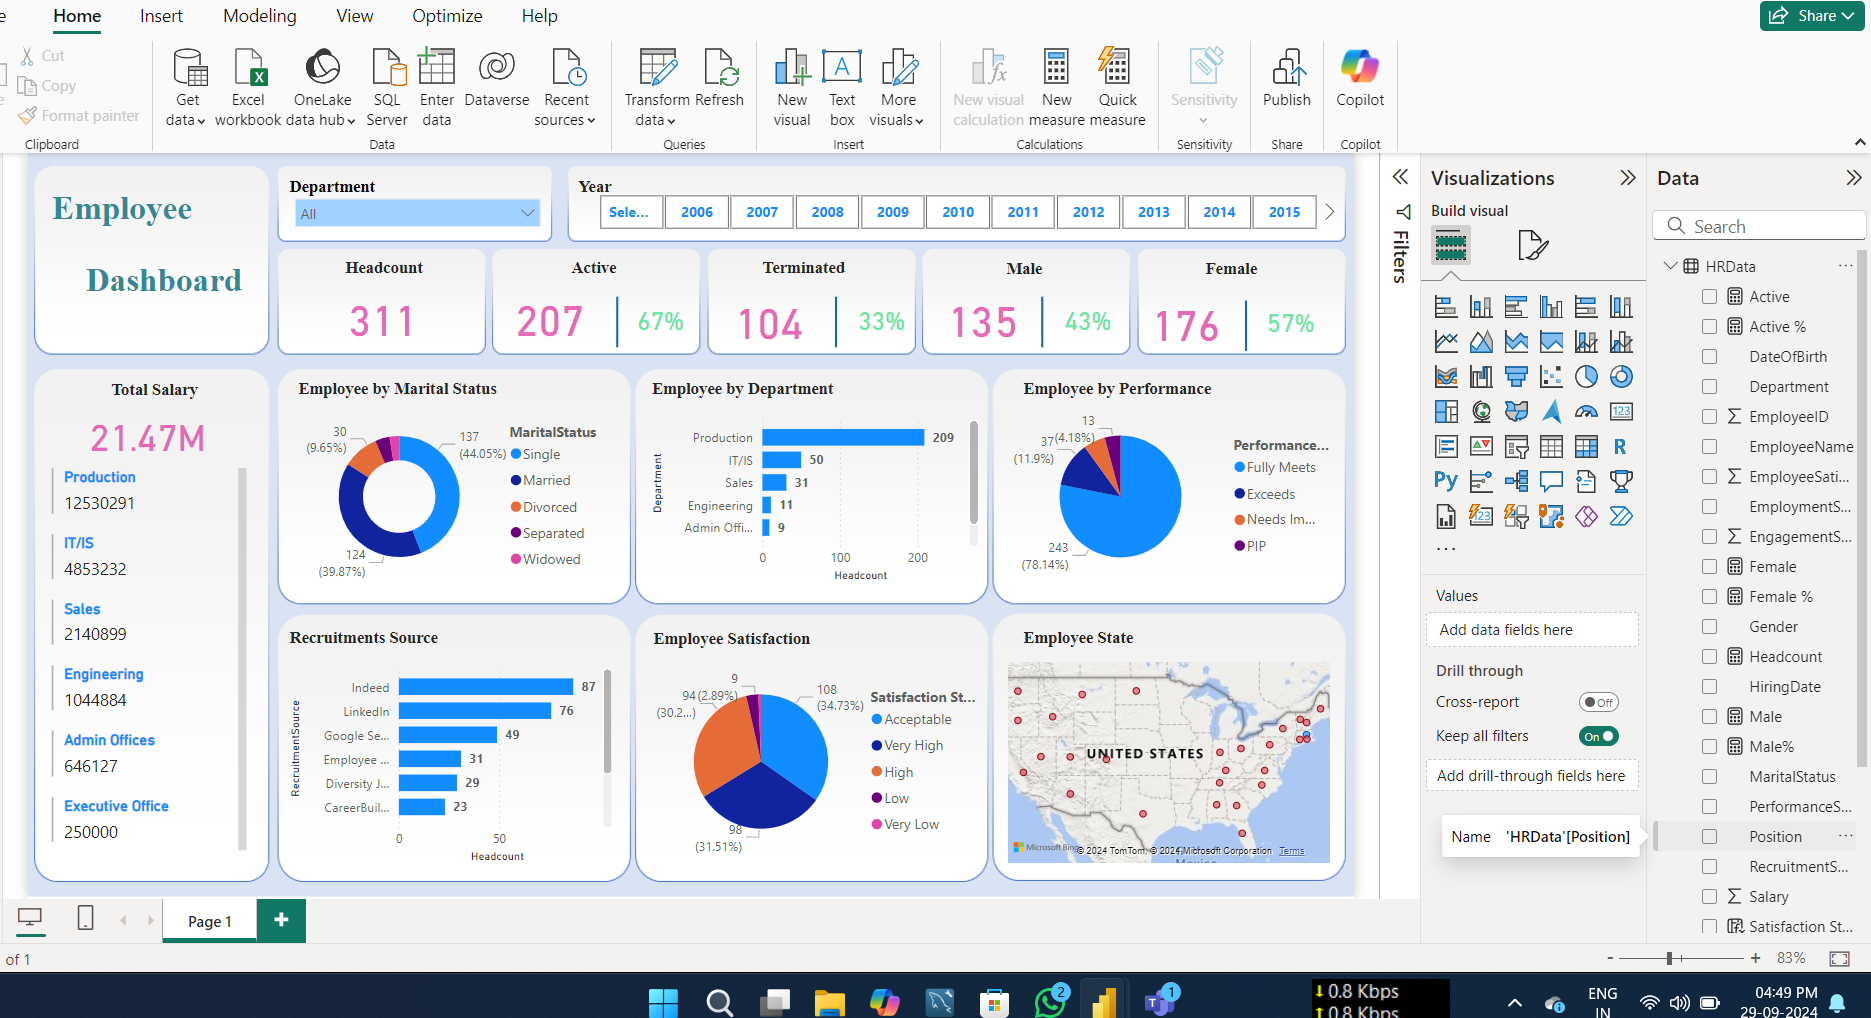

The dashboard page shown, as its layout file describes it:
{"tool":"powerbi","page":{"name":"Page 1","canvas":[1280,720],"ordinal":0},"visuals":[{"type":"textbox","box":[247.5,17.5,113.8,31.2],"z":0},{"type":"textbox","box":[526.2,17.5,56.2,31.2],"z":1000},{"type":"textbox","box":[247.5,96.2,192.5,28.8],"z":2000},{"type":"slicer","fields":{"Values":["HRData.Department"]},"box":[247.5,33.8,257.5,46.2],"z":3000},{"type":"slicer","fields":{"Values":["HRData.Year"]},"box":[526.2,33.8,741.2,46.2],"z":4000},{"type":"textbox","box":[658.8,96.2,180,31.2],"z":5000},{"type":"textbox","box":[452.5,96.2,187.5,31.2],"z":6000},{"type":"card","fields":{"Values":["HRData.Headcount"]},"box":[290,127.5,106.2,60],"z":7000},{"type":"card","fields":{"Values":["HRData.Active"]},"box":[452.5,127.5,102.5,60],"z":8000},{"type":"shape","box":[555,138.8,27.5,48.8],"z":9000},{"type":"shape","box":[766.2,138.8,27.5,48.8],"z":10000},{"type":"card","fields":{"Values":["HRData.Female"]},"box":[1072.5,138.8,90,48.8],"z":11000},{"type":"card","fields":{"Values":["HRData.Male"]},"box":[880,128.8,85,60],"z":12000},{"type":"card","fields":{"Values":["HRData.Terminated"]},"box":[670,133.8,91.2,55],"z":13000},{"type":"card","fields":{"Values":["HRData.Active %"]},"box":[580,133.8,60,55],"z":14000},{"type":"card","fields":{"Values":["HRData.Termin %"]},"box":[793.8,133.8,60,55],"z":15000},{"type":"card","fields":{"Values":["HRData.Male%"]},"box":[992.5,133.8,60,55],"z":16000},{"type":"card","fields":{"Values":["HRData.Female %"]},"box":[1188.8,136.2,60,55],"z":17000},{"type":"shape","box":[965,138.8,27.5,48.8],"z":18000},{"type":"shape","box":[1161.2,142.5,27.5,48.8],"z":19000},{"type":"textbox","box":[878.8,97.5,162.5,31.2],"z":20000},{"type":"textbox","box":[1088.8,97.5,146.2,31.2],"z":21000},{"type":"textbox","box":[955,453.8,293.8,31.2],"z":22000},{"type":"textbox","box":[598.8,455,300,31.2],"z":23000},{"type":"textbox","box":[247.5,453.8,321.2,31.2],"z":24000},{"type":"textbox","box":[955,213.8,307.5,31.2],"z":25000},{"type":"textbox","box":[597.5,213.8,287.5,31.2],"z":26000},{"type":"textbox","box":[256.2,213.8,278.8,31.2],"z":27000},{"type":"textbox","box":[27.5,215,188.8,31.2],"z":28000},{"type":"donutChart","fields":{"Category":["HRData.MaritalStatus"],"Y":["HRData.Headcount"]},"box":[247.5,245,321.2,173.8],"z":29000},{"type":"clusteredBarChart","fields":{"Category":["HRData.Department"],"Y":["HRData.Headcount"]},"box":[597.5,245,325,173.8],"z":30000},{"type":"pieChart","fields":{"Category":["HRData.PerformanceScore"],"Y":["HRData.Headcount"]},"box":[941.2,245,321.2,173.8],"z":31000},{"type":"clusteredBarChart","fields":{"Category":["HRData.RecruitmentSource"],"Y":["HRData.Headcount"]},"box":[247.5,485,321.2,205],"z":32000},{"type":"pieChart","fields":{"Category":["HRData.Satisfaction Status"],"Y":["HRData.Headcount"]},"box":[597.5,485,325,205],"z":33000},{"type":"map","fields":{"Category":["HRData.State"]},"box":[941.2,486.2,321.2,203.8],"z":34000},{"type":"card","fields":{"Values":["Sum(HRData.Salary)"]},"box":[27.5,245,176.2,53.8],"z":35000},{"type":"multiRowCard","fields":{"Values":["Sum(HRData.Salary)","HRData.Department"]},"box":[18.1,299.2,197.9,390.9],"z":36000},{"type":"textbox","box":[51.2,98.8,175,58.8],"z":37000},{"type":"textbox","box":[17.5,28.8,190,57.5],"z":38000}]}

Visuals, with their boxes on the page's 1280x720 design canvas (x1, y1, x2, y2). These are canvas units, not pixel positions in the 1871x1018 screenshot, which may show the page scaled, cropped or inside an application window:
textbox: bbox=[248, 18, 361, 49]
textbox: bbox=[526, 18, 582, 49]
textbox: bbox=[248, 96, 440, 125]
slicer - HRData.Department: bbox=[248, 34, 505, 80]
slicer - HRData.Year: bbox=[526, 34, 1267, 80]
textbox: bbox=[659, 96, 839, 127]
textbox: bbox=[452, 96, 640, 127]
card - HRData.Headcount: bbox=[290, 128, 396, 188]
card - HRData.Active: bbox=[452, 128, 555, 188]
shape: bbox=[555, 139, 582, 188]
shape: bbox=[766, 139, 794, 188]
card - HRData.Female: bbox=[1072, 139, 1162, 188]
card - HRData.Male: bbox=[880, 129, 965, 189]
card - HRData.Terminated: bbox=[670, 134, 761, 189]
card - HRData.Active %: bbox=[580, 134, 640, 189]
card - HRData.Termin %: bbox=[794, 134, 854, 189]
card - HRData.Male%: bbox=[992, 134, 1052, 189]
card - HRData.Female %: bbox=[1189, 136, 1249, 191]
shape: bbox=[965, 139, 992, 188]
shape: bbox=[1161, 142, 1189, 191]
textbox: bbox=[879, 98, 1041, 129]
textbox: bbox=[1089, 98, 1235, 129]
textbox: bbox=[955, 454, 1249, 485]
textbox: bbox=[599, 455, 899, 486]
textbox: bbox=[248, 454, 569, 485]
textbox: bbox=[955, 214, 1262, 245]
textbox: bbox=[598, 214, 885, 245]
textbox: bbox=[256, 214, 535, 245]
textbox: bbox=[28, 215, 216, 246]
donutChart - HRData.MaritalStatus x HRData.Headcount: bbox=[248, 245, 569, 419]
clusteredBarChart - HRData.Department x HRData.Headcount: bbox=[598, 245, 922, 419]
pieChart - HRData.PerformanceScore x HRData.Headcount: bbox=[941, 245, 1262, 419]
clusteredBarChart - HRData.RecruitmentSource x HRData.Headcount: bbox=[248, 485, 569, 690]
pieChart - HRData.Satisfaction Status x HRData.Headcount: bbox=[598, 485, 922, 690]
map - HRData.State: bbox=[941, 486, 1262, 690]
card - Sum(HRData.Salary): bbox=[28, 245, 204, 299]
multiRowCard - Sum(HRData.Salary) x HRData.Department: bbox=[18, 299, 216, 690]
textbox: bbox=[51, 99, 226, 158]
textbox: bbox=[18, 29, 208, 86]
